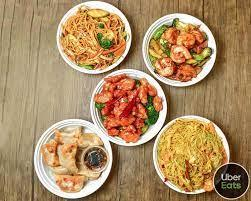Braised Crucian Carp: (33, 118, 112, 199), (151, 115, 230, 195), (89, 69, 167, 146), (141, 12, 217, 87), (55, 0, 131, 75)
